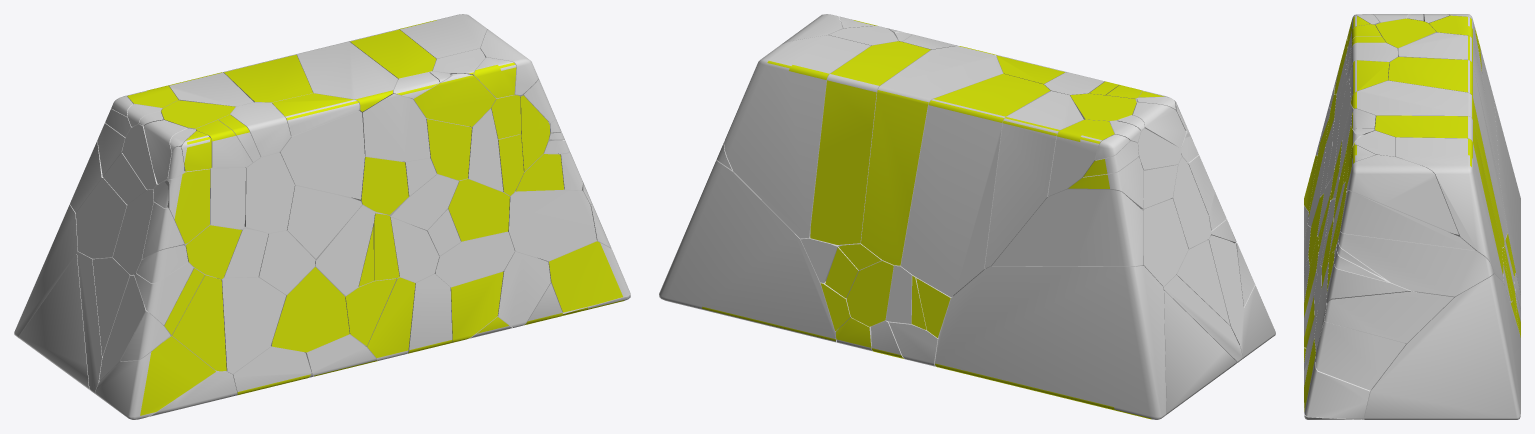
Rendered from Frag_BlocoTransito.fbx.
3 renders of one model, left to right at view 1: azimuth 30°, elevation 25°; view 2: azimuth 150°, elevation 25°; view 3: azimuth 270°, elevation 25°, orthographic. The views are drawn at different scales.
Parts seen in each view (by area): view 1: Bloco Transito_cell.156, Bloco Transito_cell.097, Bloco Transito_cell.183, Bloco Transito_cell.122, Bloco Transito_cell.103, Bloco Transito_cell.161, Bloco Transito_cell.158, Bloco Transito_cell.153, Bloco Transito_cell.120, Bloco Transito_cell.106, Bloco Transito_cell.142, Bloco Transito_cell.159 (+63 smaller); view 2: Bloco Transito_cell.143, Bloco Transito_cell.173, Bloco Transito_cell.062, Bloco Transito_cell.146, Bloco Transito_cell.158, Bloco Transito_cell.100, Bloco Transito_cell.148, Bloco Transito_cell.108, Bloco Transito_cell.122, Bloco Transito_cell.176, Bloco Transito_cell.137, Bloco Transito_cell.085 (+25 smaller); view 3: Bloco Transito_cell.173, Bloco Transito_cell.094, Bloco Transito_cell.146, Bloco Transito_cell.119, Bloco Transito_cell.140, Bloco Transito_cell.158, Bloco Transito_cell.114, Bloco Transito_cell.062, Bloco Transito_cell.150, Bloco Transito_cell.100, Bloco Transito_cell.153, Bloco Transito_cell.108 (+42 smaller).
Boxes of the visible parts, <box> form: Bloco Transito_cell.156: <box>95,335,215,419</box>; Bloco Transito_cell.097: <box>279,110,364,199</box>; Bloco Transito_cell.183: <box>508,189,596,260</box>; Bloco Transito_cell.122: <box>19,254,90,390</box>; Bloco Transito_cell.103: <box>217,277,285,373</box>; Bloco Transito_cell.161: <box>271,267,349,352</box>; Bloco Transito_cell.158: <box>296,41,398,112</box>; Bloco Transito_cell.153: <box>538,241,630,312</box>; Bloco Transito_cell.120: <box>362,94,430,161</box>; Bloco Transito_cell.106: <box>244,152,294,232</box>; Bloco Transito_cell.142: <box>170,273,226,371</box>; Bloco Transito_cell.159: <box>286,185,361,258</box>; Bloco Transito_cell.143: <box>935,265,1166,419</box>; Bloco Transito_cell.173: <box>659,160,836,342</box>; Bloco Transito_cell.062: <box>901,73,1050,296</box>; Bloco Transito_cell.146: <box>724,35,870,238</box>; Bloco Transito_cell.158: <box>861,46,1002,265</box>; Bloco Transito_cell.100: <box>810,41,930,244</box>; Bloco Transito_cell.148: <box>992,189,1143,266</box>; Bloco Transito_cell.108: <box>984,91,1083,268</box>; Bloco Transito_cell.122: <box>1164,290,1236,414</box>; Bloco Transito_cell.176: <box>1141,198,1188,286</box>; Bloco Transito_cell.137: <box>1048,119,1114,196</box>; Bloco Transito_cell.085: <box>846,260,894,326</box>; Bloco Transito_cell.173: <box>1364,273,1520,419</box>; Bloco Transito_cell.094: <box>1338,231,1493,296</box>; Bloco Transito_cell.146: <box>1396,137,1503,282</box>; Bloco Transito_cell.119: <box>1346,155,1458,234</box>; Bloco Transito_cell.140: <box>1324,291,1453,343</box>; Bloco Transito_cell.158: <box>1350,80,1504,247</box>; Bloco Transito_cell.114: <box>1315,322,1405,390</box>; Bloco Transito_cell.062: <box>1388,57,1507,239</box>; Bloco Transito_cell.150: <box>1340,191,1475,250</box>; Bloco Transito_cell.100: <box>1374,115,1503,274</box>; Bloco Transito_cell.153: <box>1304,338,1371,419</box>; Bloco Transito_cell.108: <box>1398,32,1500,188</box>.
Bounding box in the file's own units: 1.99 × 0.9072 × 0.8118.
